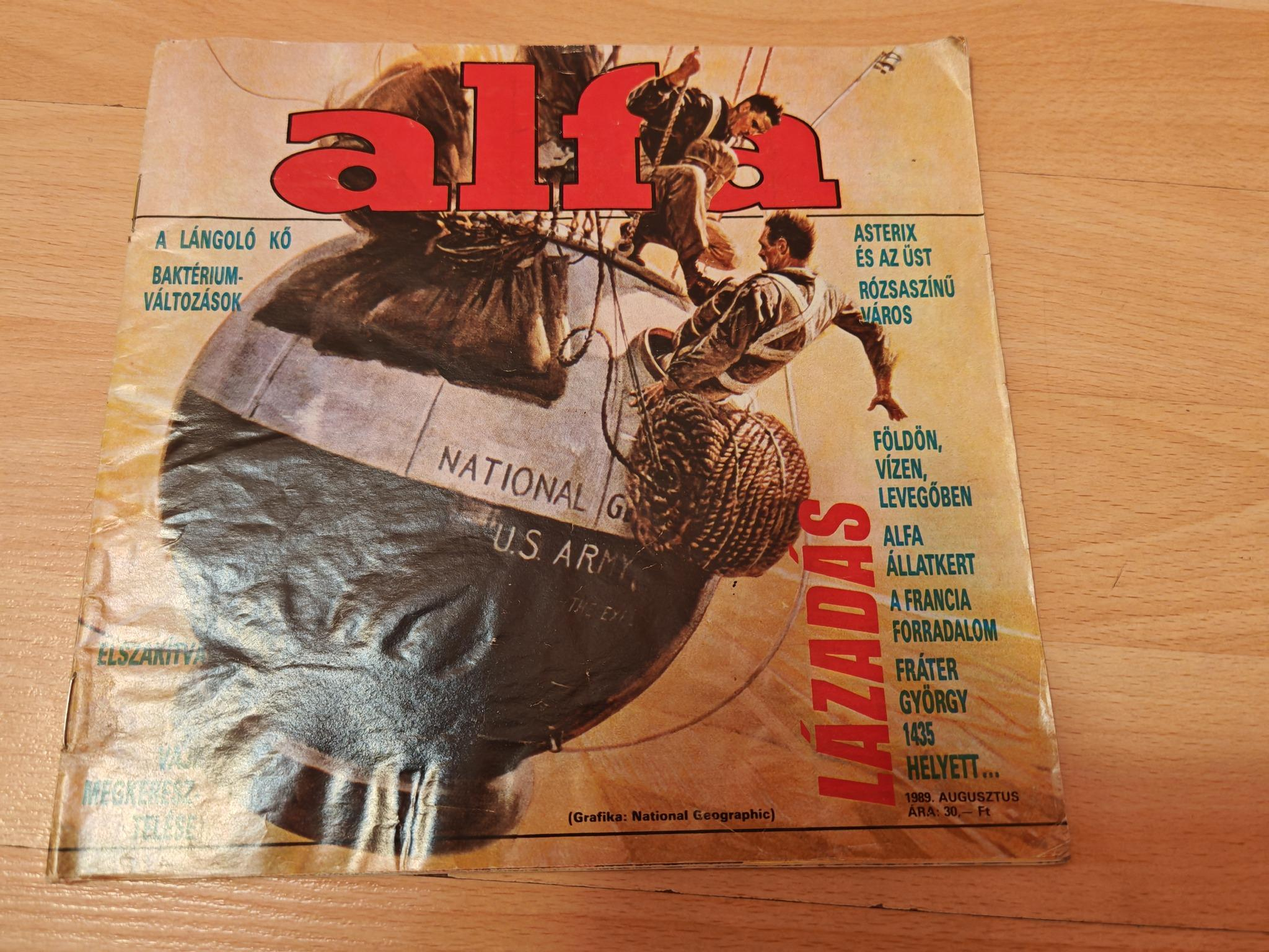comic: (49, 40, 1067, 877)
